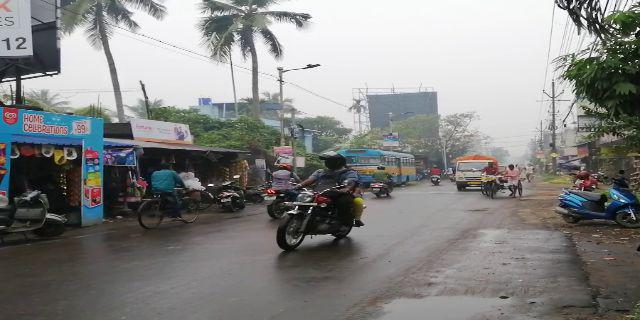Cycle: (133, 165, 199, 230)
Motorbike: (272, 152, 364, 251), (369, 160, 394, 201)
